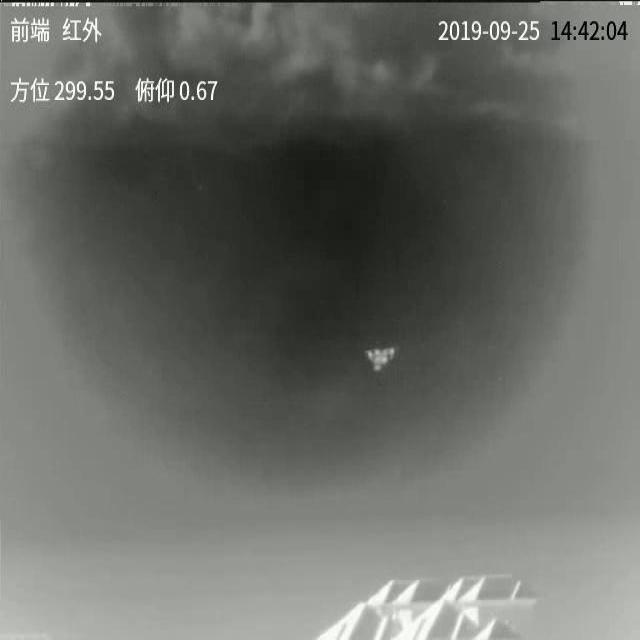drone: (365, 346, 395, 371)
